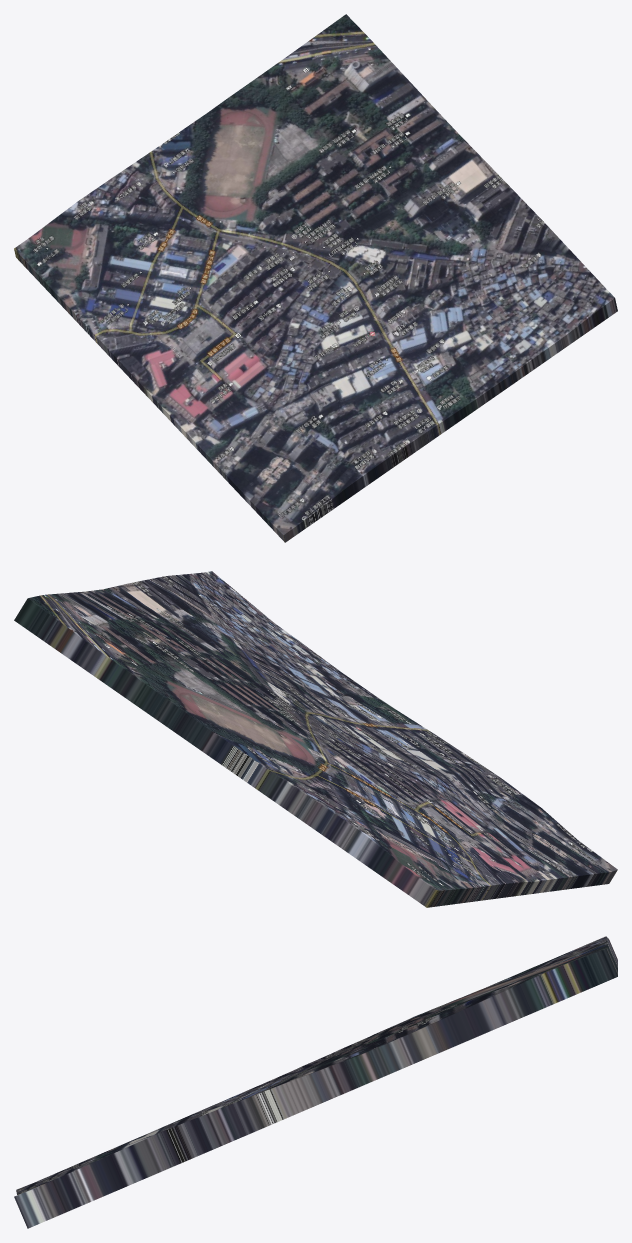
3 renders of one model, top to bottom at view 1: azimuth 30°, elevation 25°; view 2: azimuth 150°, elevation 25°; view 3: azimuth 270°, elevation 25°, orthographic. The views are drawn at different scales.
Visible parts, largest first — view 1: 0_8_31; view 2: 0_8_31; view 3: 0_8_31.
Part boxes in pixels (left/top/right/bottom): 0_8_31: left=14, top=14, right=617, bottom=542; 0_8_31: left=14, top=571, right=617, bottom=907; 0_8_31: left=14, top=936, right=617, bottom=1228.
Bounding box in the file's own units: 600 × 452 × 555.
1 material, 1 textured.
